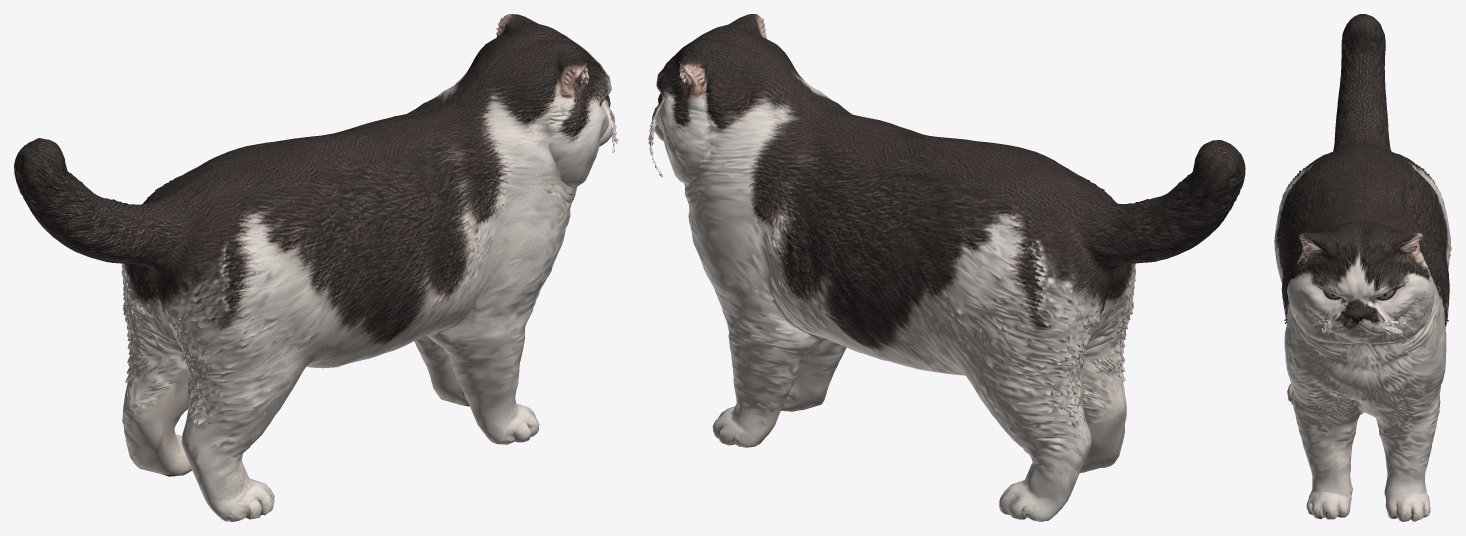
Rendered from NEKOSAMA.glb.
The picture shows the model from 3 angles, left to right: view 1: azimuth 30°, elevation 25°; view 2: azimuth 150°, elevation 25°; view 3: azimuth 270°, elevation 25°; orthographic projection. The views are drawn at different scales.
Parts seen in each view (by area): view 1: tripo_node_c4448392-6746-4f2e-be38-5e0eb383d991; view 2: tripo_node_c4448392-6746-4f2e-be38-5e0eb383d991; view 3: tripo_node_c4448392-6746-4f2e-be38-5e0eb383d991.
Part boxes in pixels (x1,y1,x2,y2): tripo_node_c4448392-6746-4f2e-be38-5e0eb383d991: (14, 14, 618, 521); tripo_node_c4448392-6746-4f2e-be38-5e0eb383d991: (648, 14, 1245, 521); tripo_node_c4448392-6746-4f2e-be38-5e0eb383d991: (1274, 14, 1451, 521).
Size of the model in its own units: 1.57 by 0.9993 by 0.5018.
Materials: 1 (1 with a texture image).
